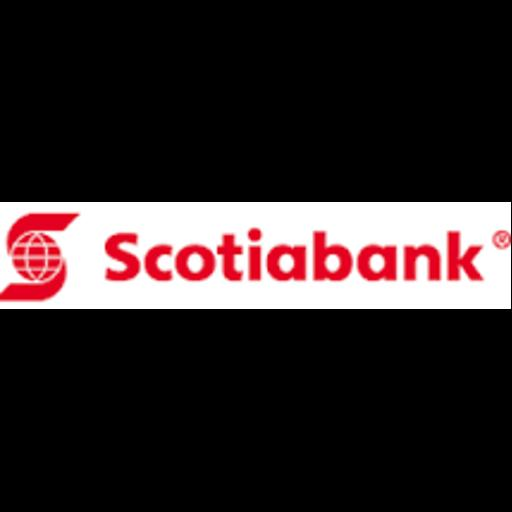Scotiabank: (0, 202, 511, 309)
